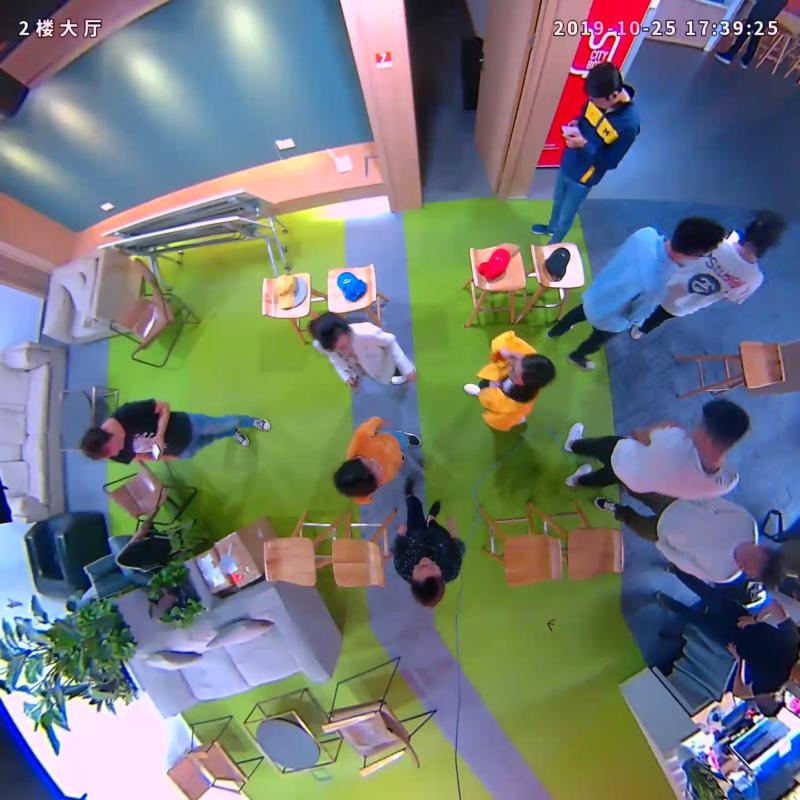head: (693, 399, 751, 453), (668, 216, 725, 264), (738, 545, 787, 588), (332, 458, 384, 498), (309, 312, 354, 356), (741, 209, 783, 254), (410, 556, 446, 608), (585, 60, 623, 109), (509, 354, 557, 389), (80, 426, 126, 462)
